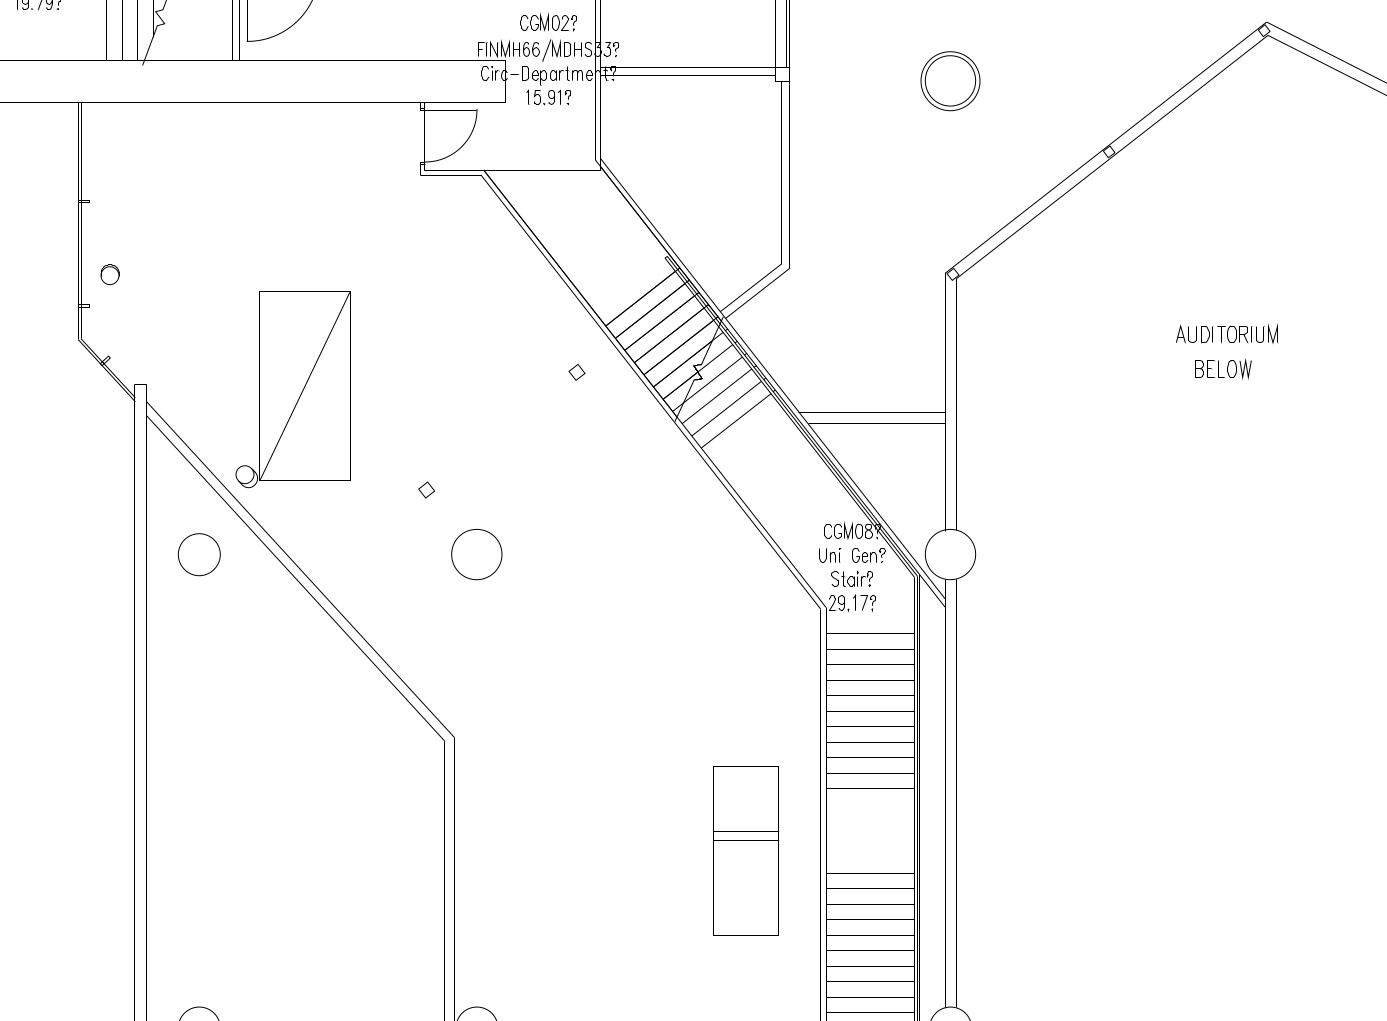door: (410, 104, 484, 165)
